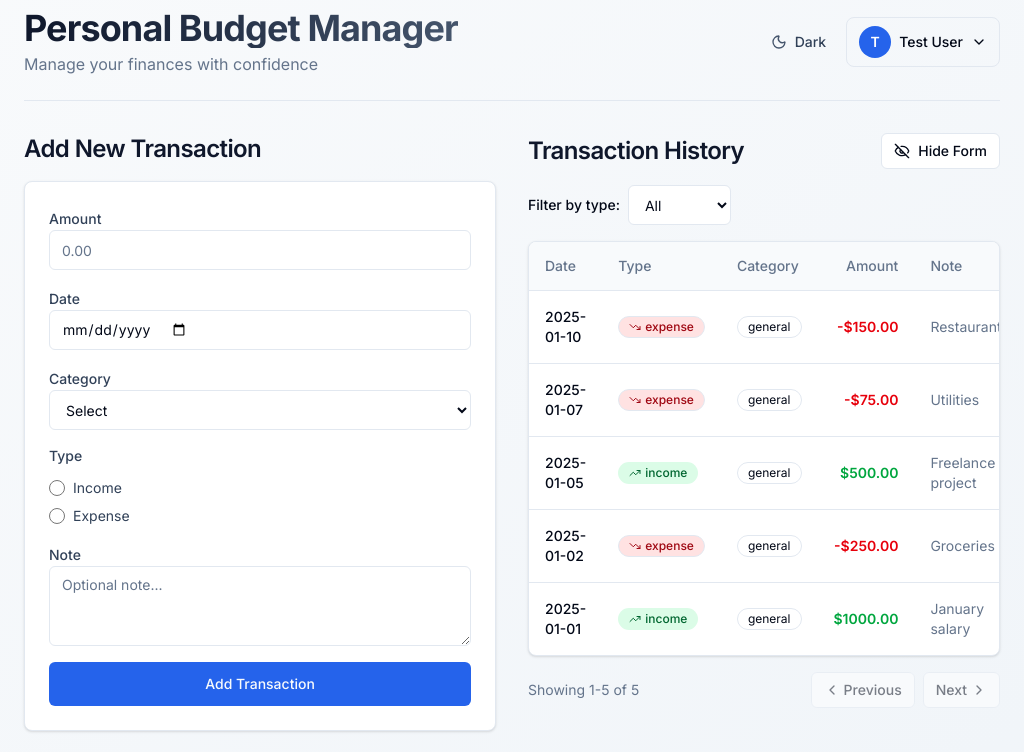
Test case: TransactionManager › Authenticated state › adds new transaction and updates list
Expected: the text "Restaurant" is shown, [914,290,999,363]
Expected: the text "Showing 1-5 of 5" is shown, [528,680,639,700]
Note: Fill out the form
Type "500" into the number field labelled "Amount".
click(260, 250); type("500")  # box [49,230,471,270]
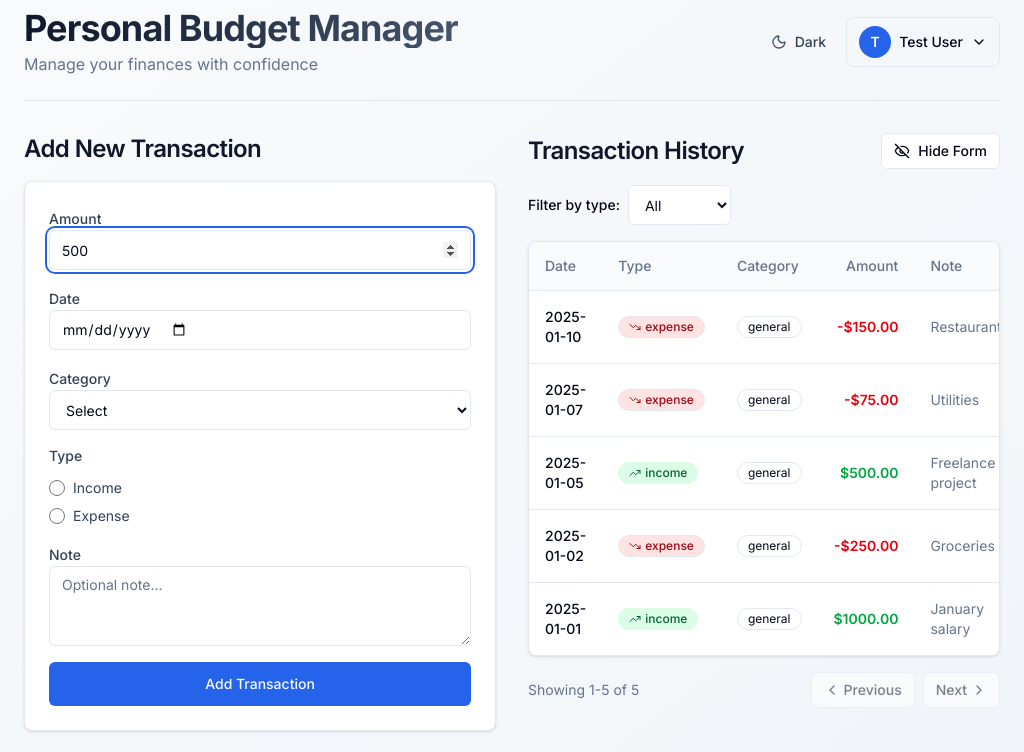
Type "2025-01-15" into the date field labelled "Date".
click(260, 330); type("2025-01-15")  # box [49,310,471,350]
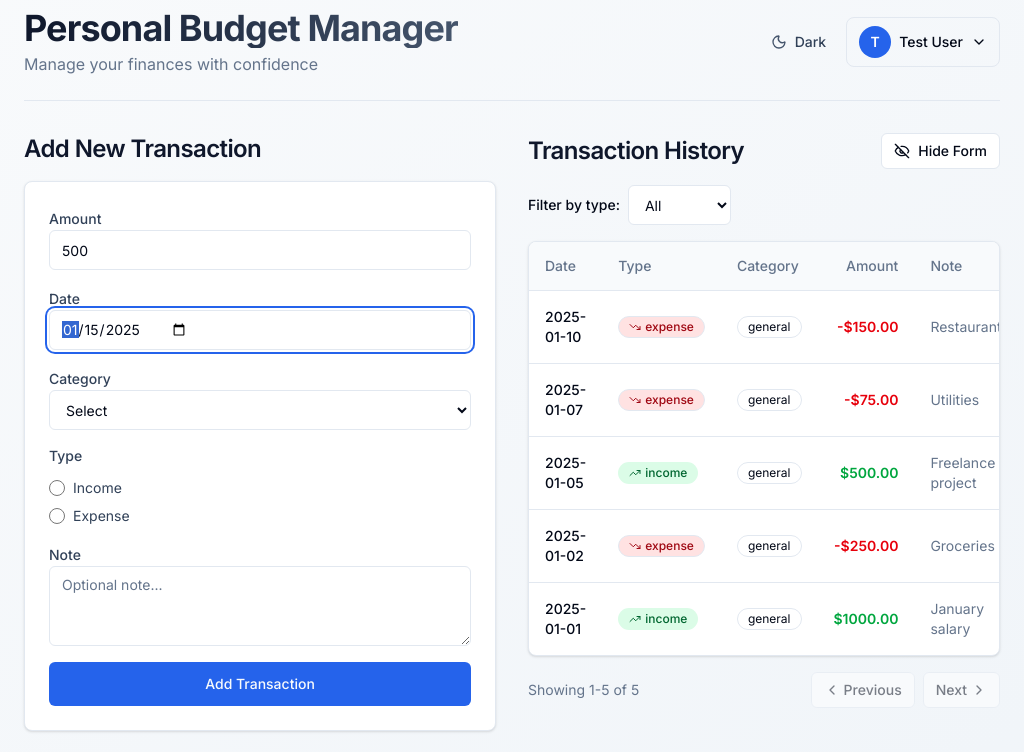
Select "General" in the dropdown labelled "Category" at {"x": 260, "y": 410}, box [49,390,471,430]
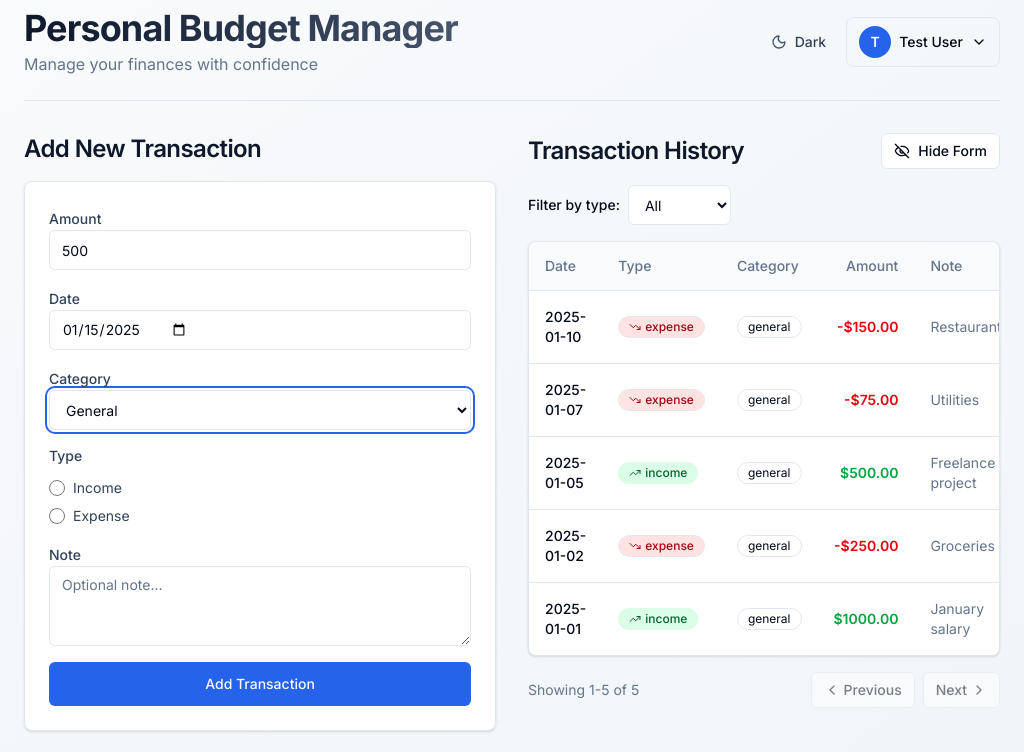
Click the radio button labelled "Expense".
click(57, 516)  # box [49,508,65,524]
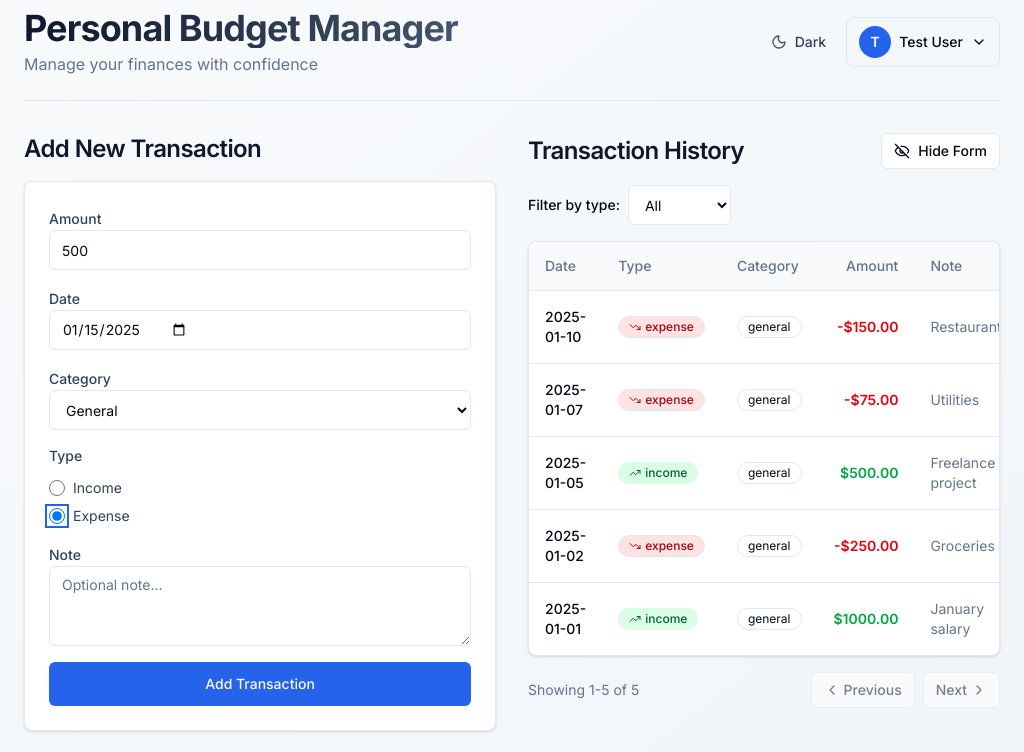
Type "New test expense" into the text box labelled "Note".
click(260, 606); type("New test expense")  # box [49,566,471,646]
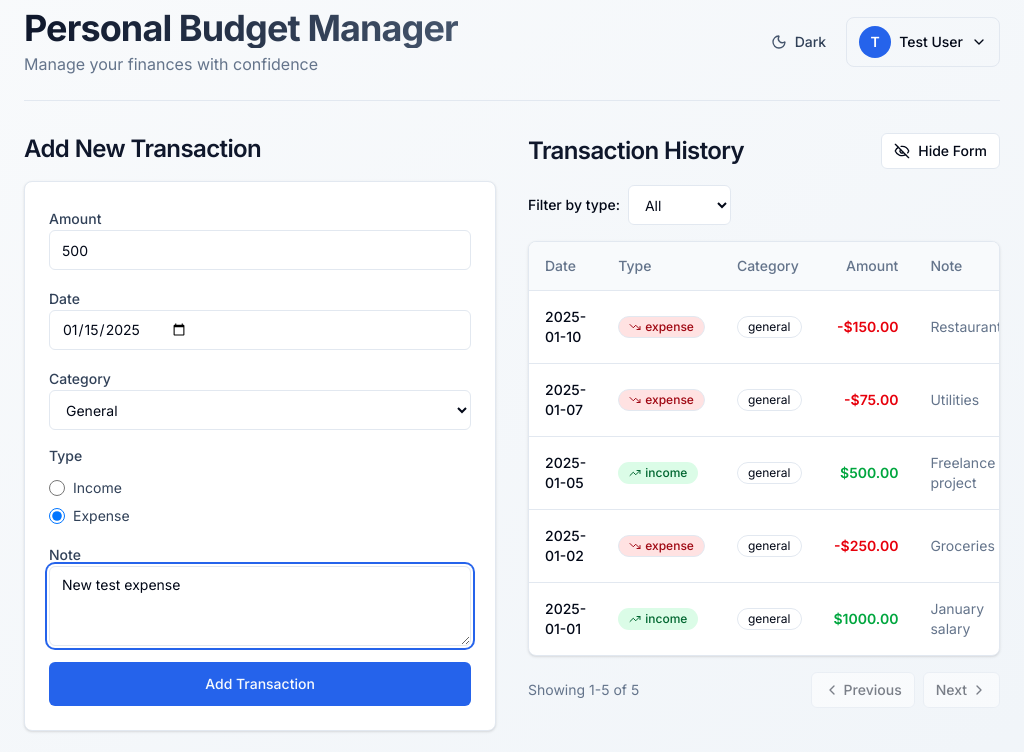
Note: Submit the form
Click the button "Add Transaction".
click(260, 684)  # box [49,662,471,706]
(page scrolled)
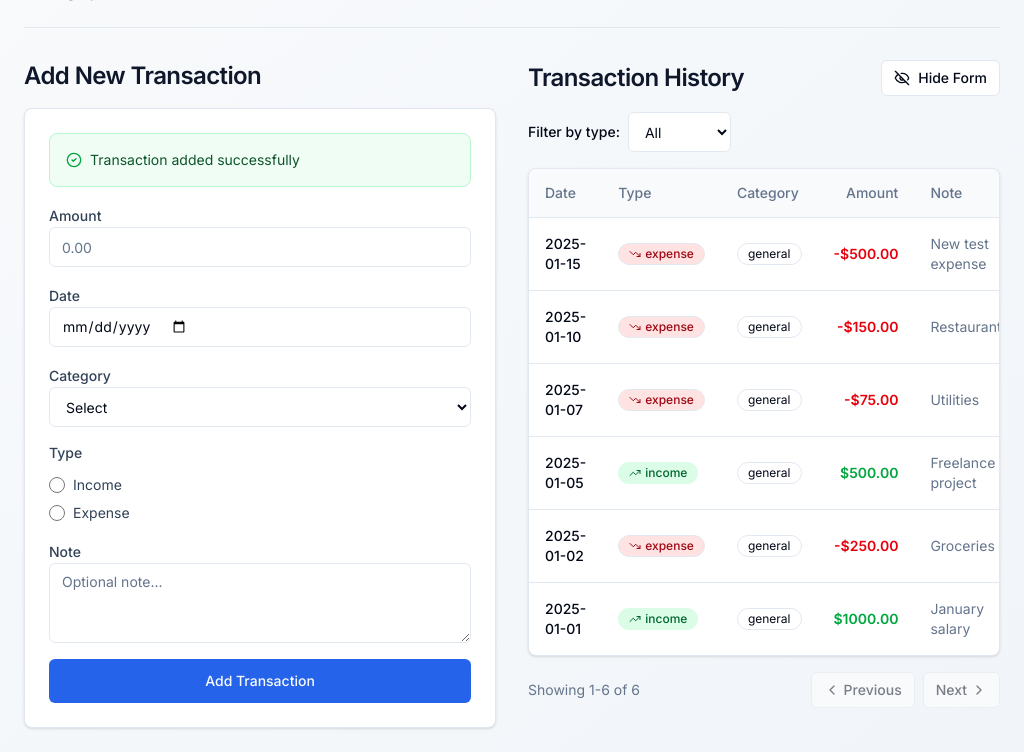
Result: the text "Transaction added successfully" is shown at [90,150,300,170]
Result: the text "New test expense" is shown at [914,217,999,290]
Result: the text "-$500.00" is shown at [818,217,914,290]
